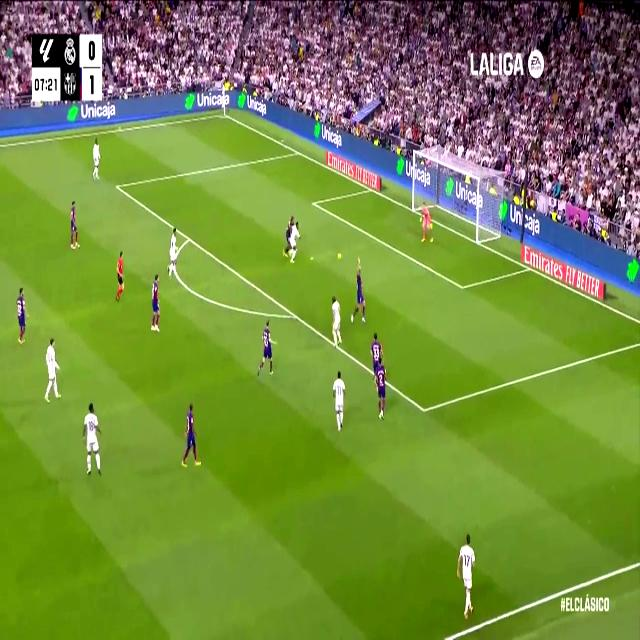bigarea_bottom_inner: (418, 395, 430, 424)
bigarea_top_inner: (113, 178, 121, 195)
bigarea_top_outter: (293, 144, 302, 158)
bottom_arc_area_intersection: (289, 304, 299, 325)
corner: (220, 108, 228, 120)
smallarea_bottom_inner: (458, 277, 467, 297)
smallarea_top_inner: (310, 196, 317, 209)
top_arc_area_intersection: (185, 230, 193, 247)
